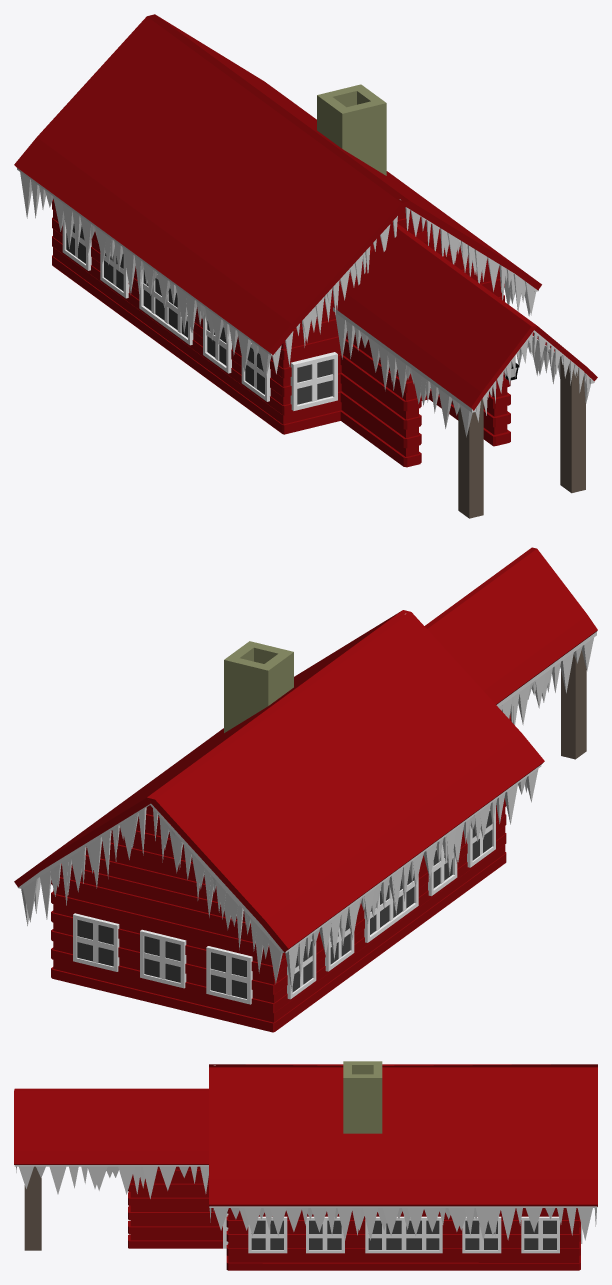
The model's file is christmashouse (1).fbx.
3 renders of one model, top to bottom at view 1: azimuth 30°, elevation 25°; view 2: azimuth 150°, elevation 25°; view 3: azimuth 270°, elevation 25°, orthographic. The views are drawn at different scales.
Visible parts, largest first — view 1: Cube, Cube.003, Cube.001, Cube.004, Cube.005, Plane.058, Plane.060, Cube.002, Plane.061, Plane.073, Plane.063, Plane.064 (+8 smaller); view 2: Cube, Cube.001, Plane.065, Cube.005, Plane.060, Plane.061, Plane.068, Plane.063, Plane.069, Plane.064, Plane.062, Plane.048 (+8 smaller); view 3: Cube, Cube.002, Cube.001, Plane.055, Plane.051, Plane.052, Plane.053, Cube.004, Plane.056, Plane.030, Plane.057, Plane.054 (+11 smaller).
Boxes of the visible parts, left/top/right/bottom form: Cube: left=14, top=14, right=597, bottom=434; Cube.003: left=339, top=331, right=421, bottom=467; Cube.001: left=317, top=84, right=386, bottom=175; Cube.004: left=560, top=356, right=585, bottom=493; Cube.005: left=458, top=399, right=483, bottom=518; Plane.058: left=333, top=307, right=428, bottom=405; Plane.060: left=378, top=344, right=476, bottom=437; Cube.002: left=429, top=372, right=510, bottom=446; Plane.061: left=177, top=287, right=275, bottom=379; Plane.073: left=440, top=228, right=535, bottom=315; Plane.063: left=17, top=168, right=113, bottom=264; Plane.064: left=124, top=248, right=217, bottom=340; Cube: left=14, top=547, right=597, bottom=1032; Cube.001: left=224, top=641, right=293, bottom=732; Plane.065: left=20, top=803, right=150, bottom=922; Cube.005: left=561, top=650, right=586, bottom=759; Plane.060: left=499, top=631, right=596, bottom=724; Plane.061: left=444, top=765, right=541, bottom=875; Plane.068: left=160, top=822, right=283, bottom=983; Plane.063: left=282, top=881, right=383, bottom=990; Plane.069: left=150, top=804, right=240, bottom=926; Plane.064: left=393, top=804, right=487, bottom=914; Plane.062: left=329, top=849, right=425, bottom=959; Plane.048: left=144, top=936, right=180, bottom=982; Cube: left=14, top=1064, right=597, bottom=1270; Cube.002: left=128, top=1166, right=222, bottom=1248; Cube.001: left=343, top=1061, right=382, bottom=1133; Plane.055: left=14, top=1165, right=162, bottom=1198; Plane.051: left=209, top=1206, right=356, bottom=1240; Plane.052: left=352, top=1206, right=495, bottom=1240; Plane.053: left=453, top=1206, right=597, bottom=1240; Cube.004: left=24, top=1166, right=41, bottom=1250; Plane.056: left=238, top=1206, right=382, bottom=1240; Plane.030: left=368, top=1220, right=439, bottom=1249; Plane.057: left=377, top=1206, right=520, bottom=1240; Plane.054: left=87, top=1165, right=208, bottom=1194.
Bounding box in the file's own units: 1235 × 1001 × 2998.
